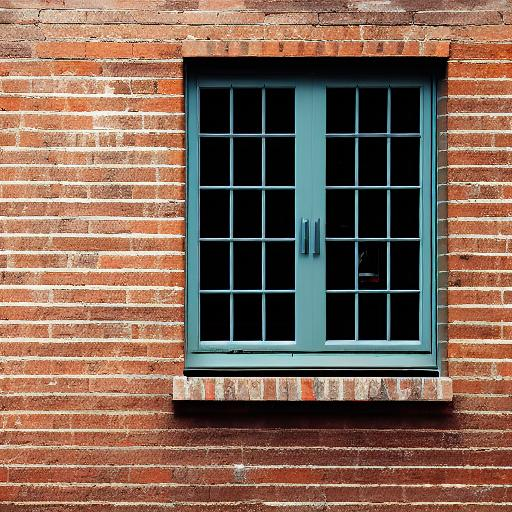Window: (171, 40, 456, 415)
